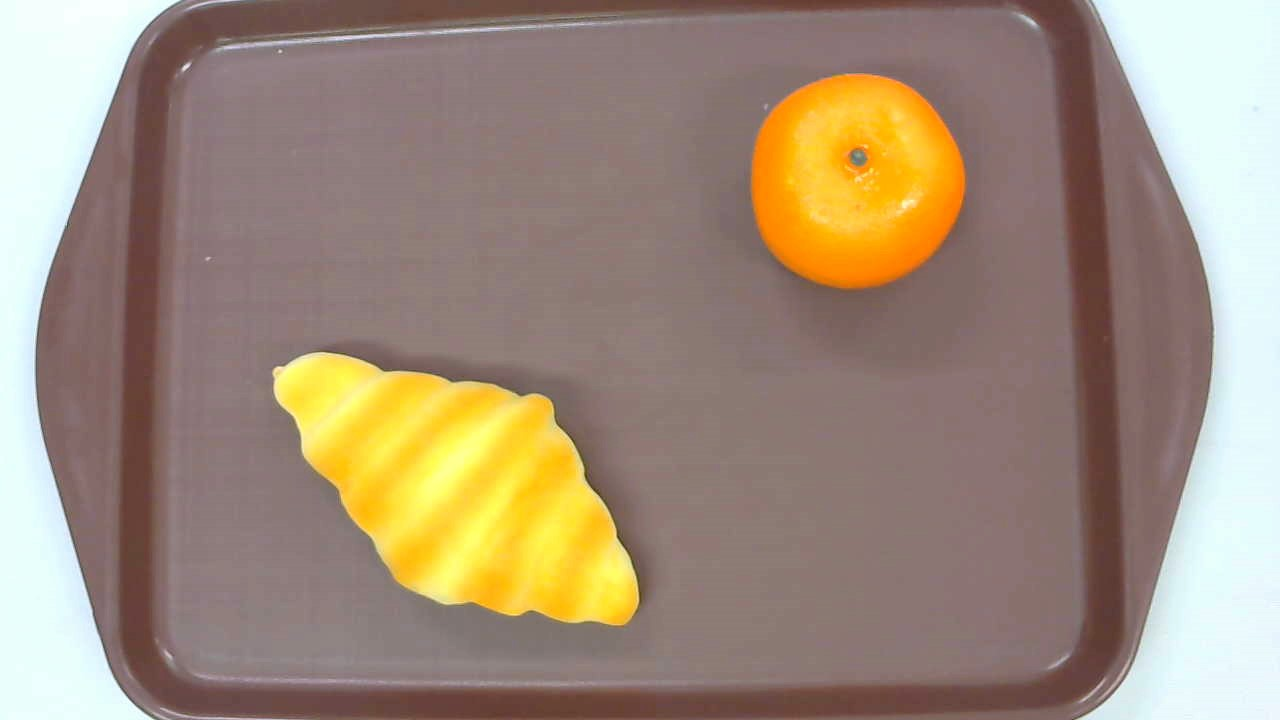croissant: (272, 351, 641, 628)
orange: (750, 73, 966, 291)
